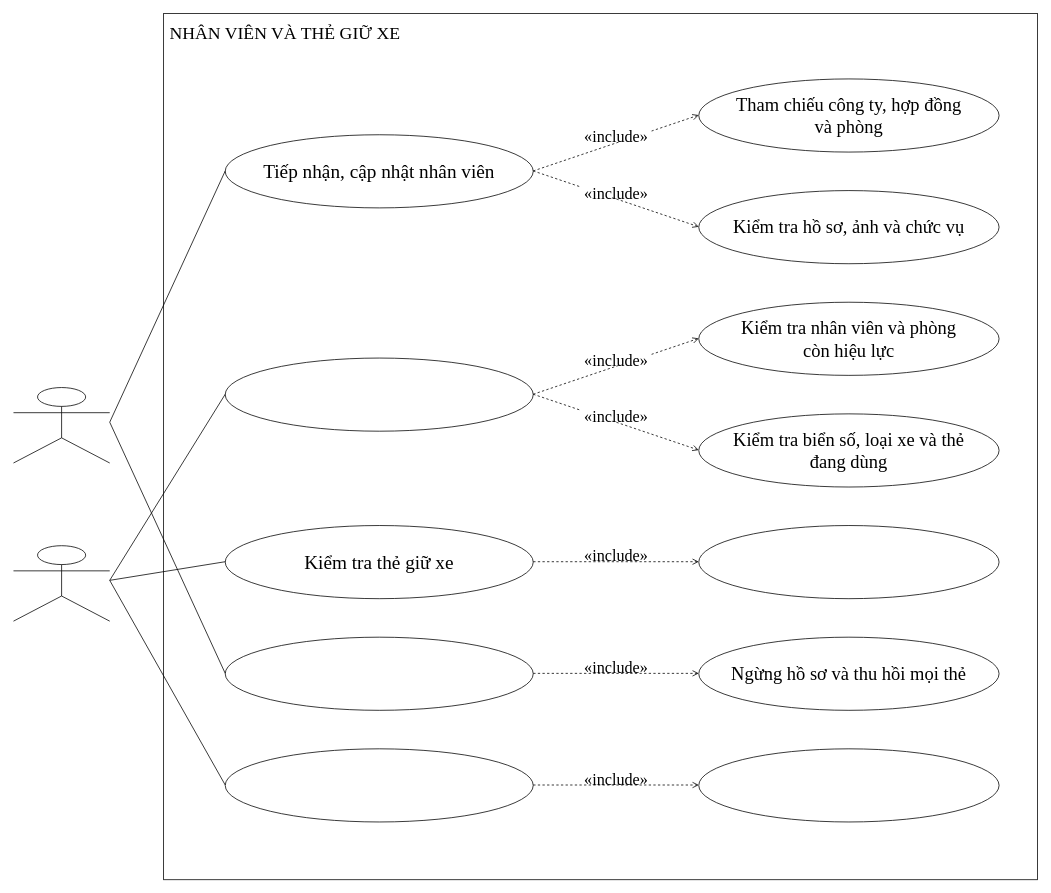
The diagram is 1051 pixels wide and 893 high, and some of its shapes have lost their labels. Here are the shapes that lost their labels. From the top down, the centre of each, then its label:
point (378, 394): Cấp thẻ giữ xe
point (61, 425): Quản lý tòa nhà
point (848, 562): Đối chiếu mã thẻ, người, xe và hiệu lực
point (61, 583): Bảo vệ
point (378, 673): Ngừng nhân viên
point (378, 785): Thu hồi riêng thẻ giữ xe
point (848, 785): Xác định thẻ và giữ lịch sử thu hồi
